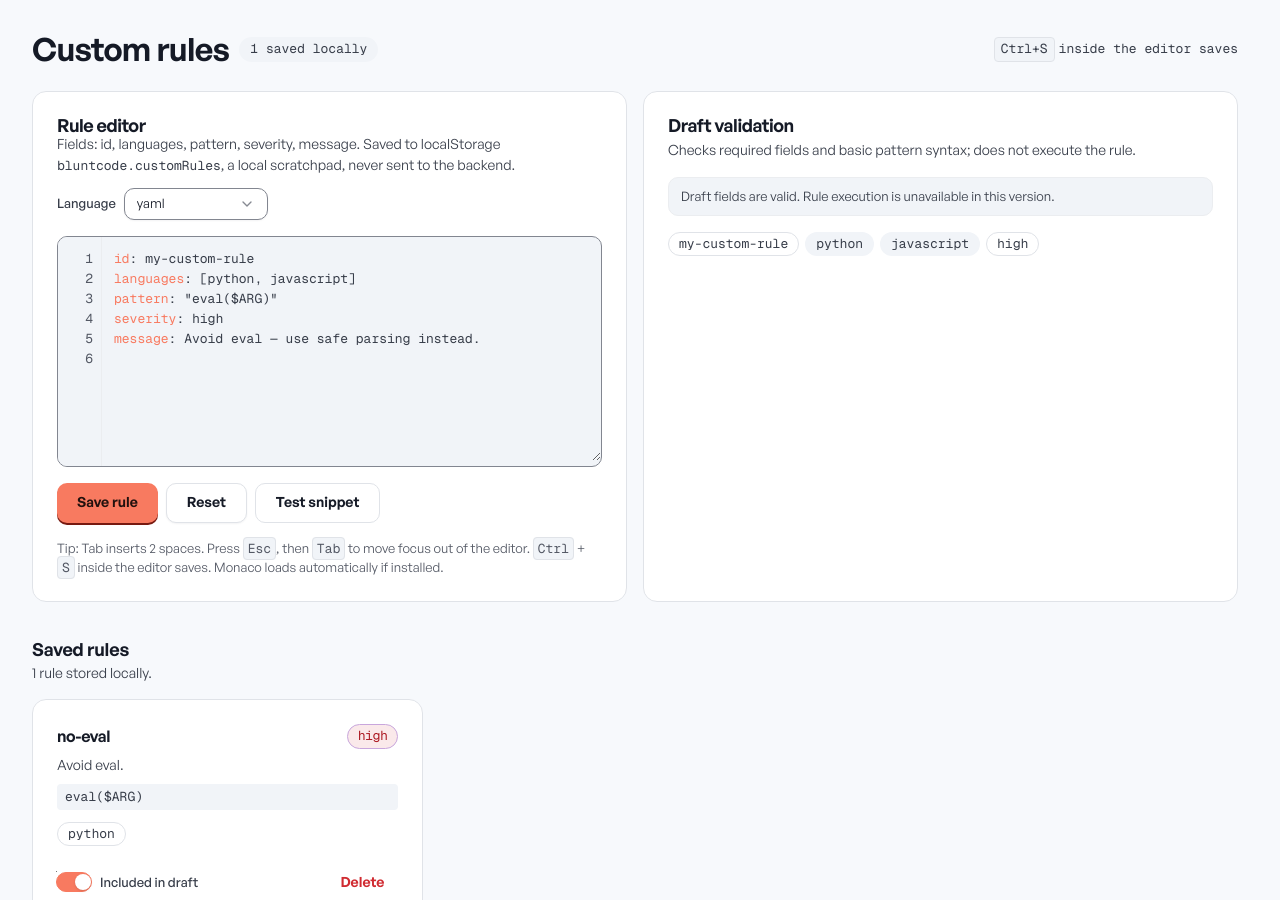
Test case: RuleStudioPage delete confirmation › removes the rule from the DOM and localStorage only after confirming
Click the button with aria-label "Delete no-eval". click: (362, 883)
box: 326,867 -> 398,899
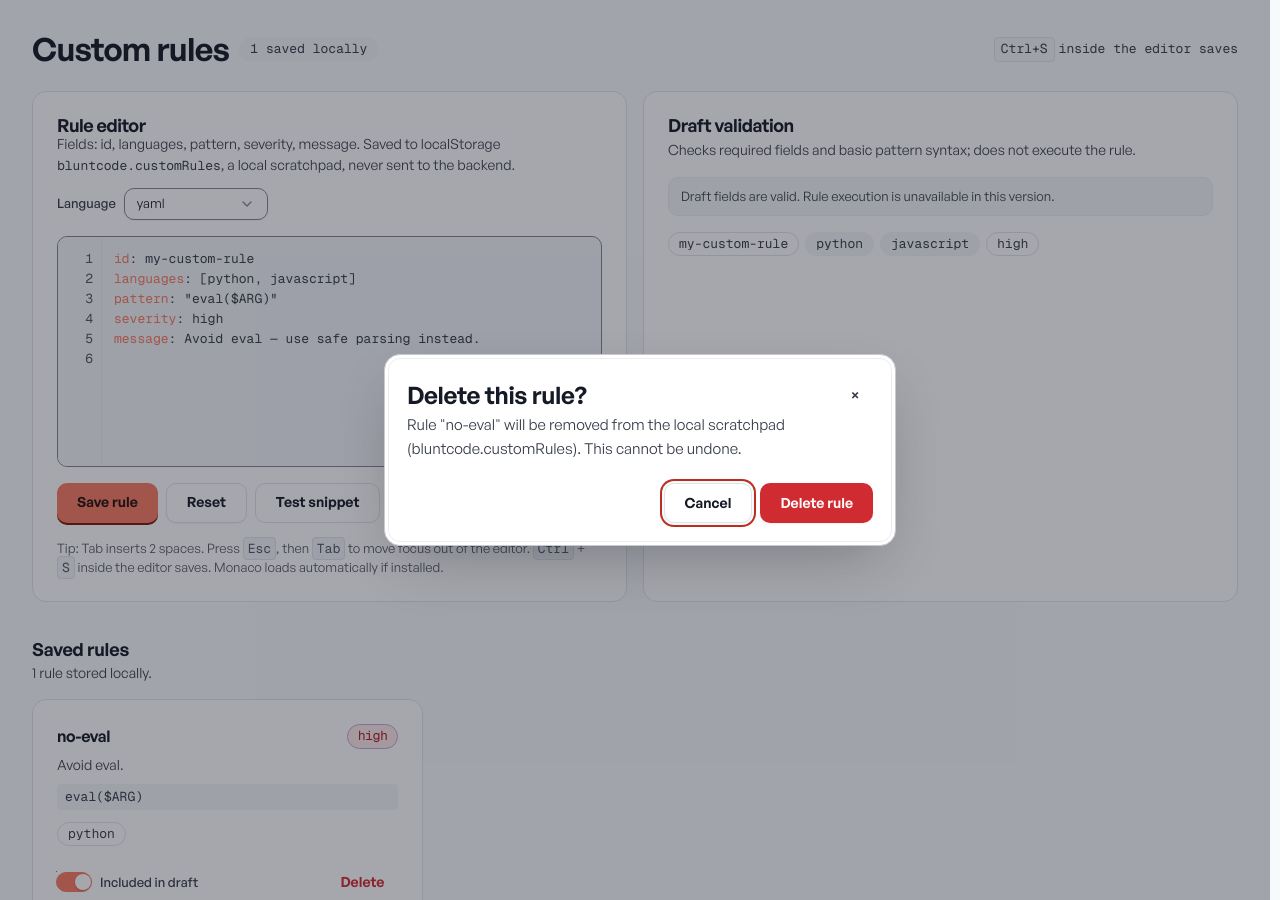
Click the button "Delete rule". click: (817, 503)
box: 760,483 -> 873,523
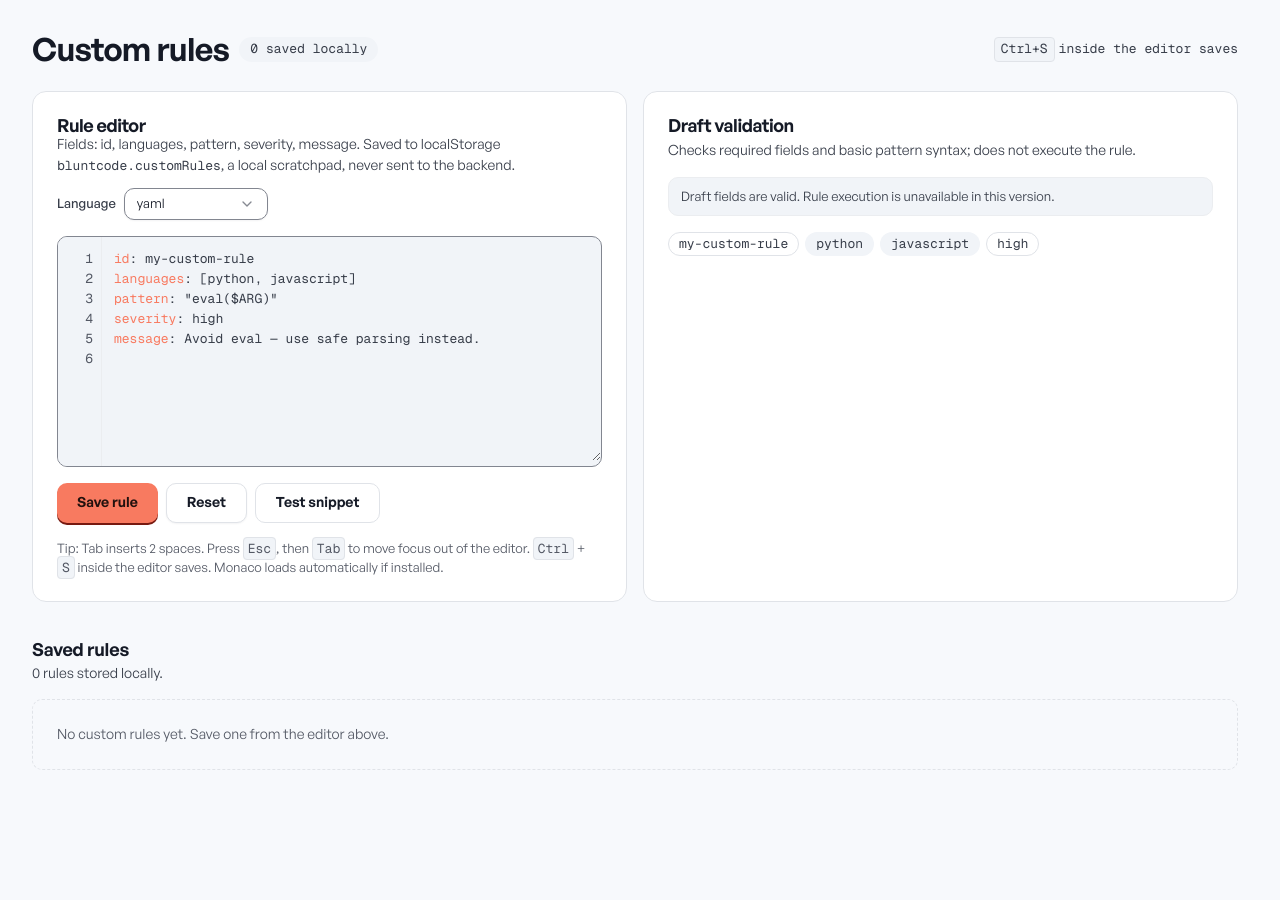
Result: the dialog is gone
Result: the text "no-eval" is gone
